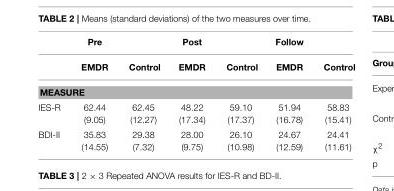table: (37, 37, 354, 151)
table column: (117, 37, 168, 151), (215, 37, 265, 151), (70, 37, 117, 151), (168, 37, 215, 151), (265, 37, 312, 151), (312, 37, 354, 151), (37, 37, 70, 151)
table column header: (37, 37, 354, 79)
table projected row header: (37, 79, 354, 99)
table row: (37, 99, 354, 126), (37, 54, 354, 79), (37, 126, 354, 151), (37, 79, 354, 99), (37, 37, 354, 54)
table spanning cell: (117, 37, 168, 79), (215, 37, 265, 79), (70, 37, 117, 79), (168, 37, 215, 79), (265, 37, 312, 79), (312, 37, 354, 79)
